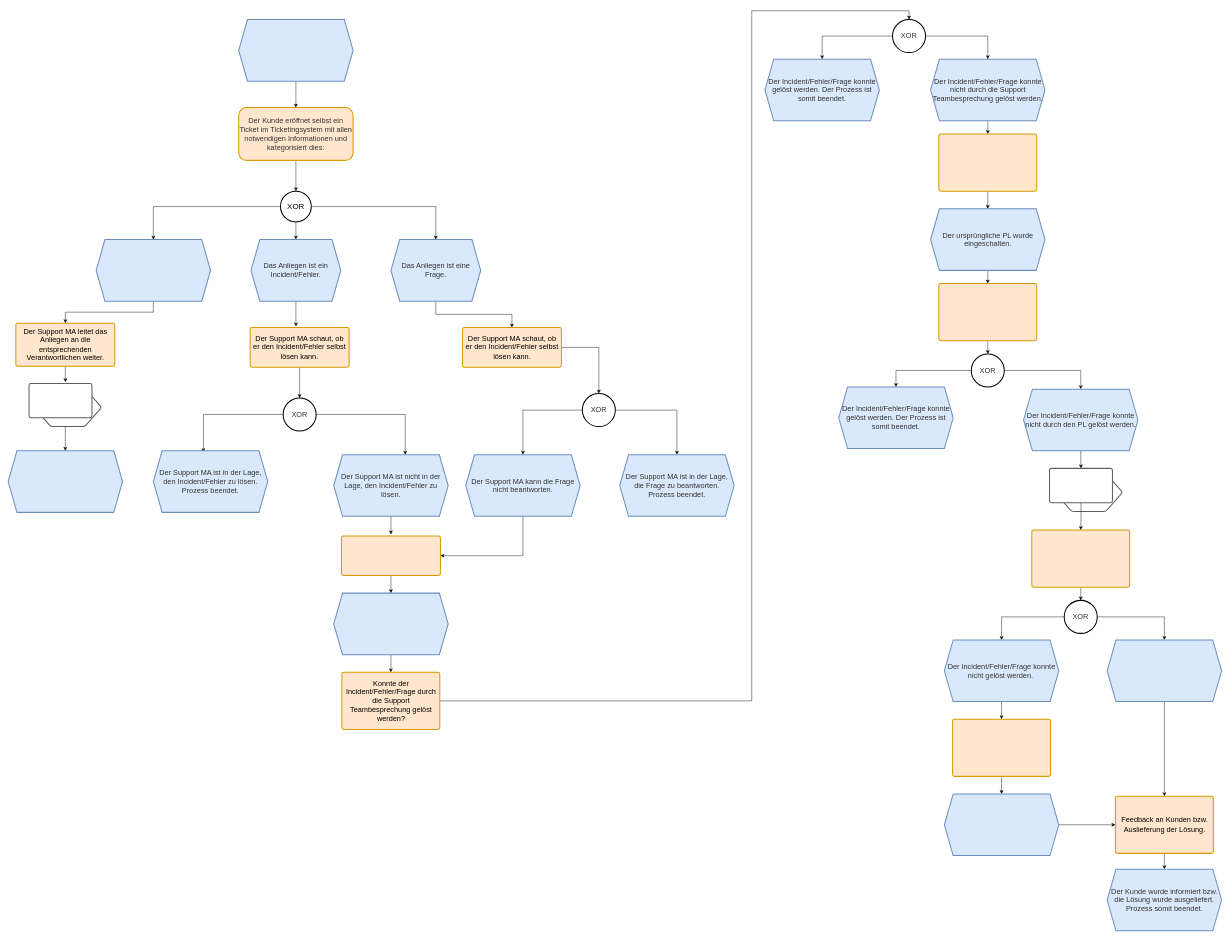
This 1230x939 diagram has some shape labels left out. Here are the shapes that lost their labels. From the top down, the centre of each, then its label:
(x=295, y=50): Der Kunde hat ein Anliegen.
(x=987, y=162): Der Fall wird mit dem ursprünglichen PL besprochen bzw. an ihn weitergeleitet.
(x=153, y=270): Das Anliegen ist eine Neuanforderung.
(x=987, y=312): Konnte der Incident/Fehler/Frage durch den PL gelöst werden?
(x=60, y=400): Individual (P31) Standard (P32)
(x=65, y=481): Prozess beendet.
(x=1081, y=485): Auftrag (P33)
(x=391, y=555): Der Fall wird in Support Teambesprechung analysiert
(x=1080, y=558): Konnte der Incident/Fehler/Frage gelöst werden?
(x=390, y=623): Support Teambesprechung fertig. Analyse abgeschlossen.
(x=1164, y=670): Der Incident/Fehler/Frage konnte gelöst werden.
(x=1001, y=747): Support MA, PL und Entwicklung suchen nach Alternative/Lösung
(x=1001, y=824): Alternative/Lösung gefunden.
